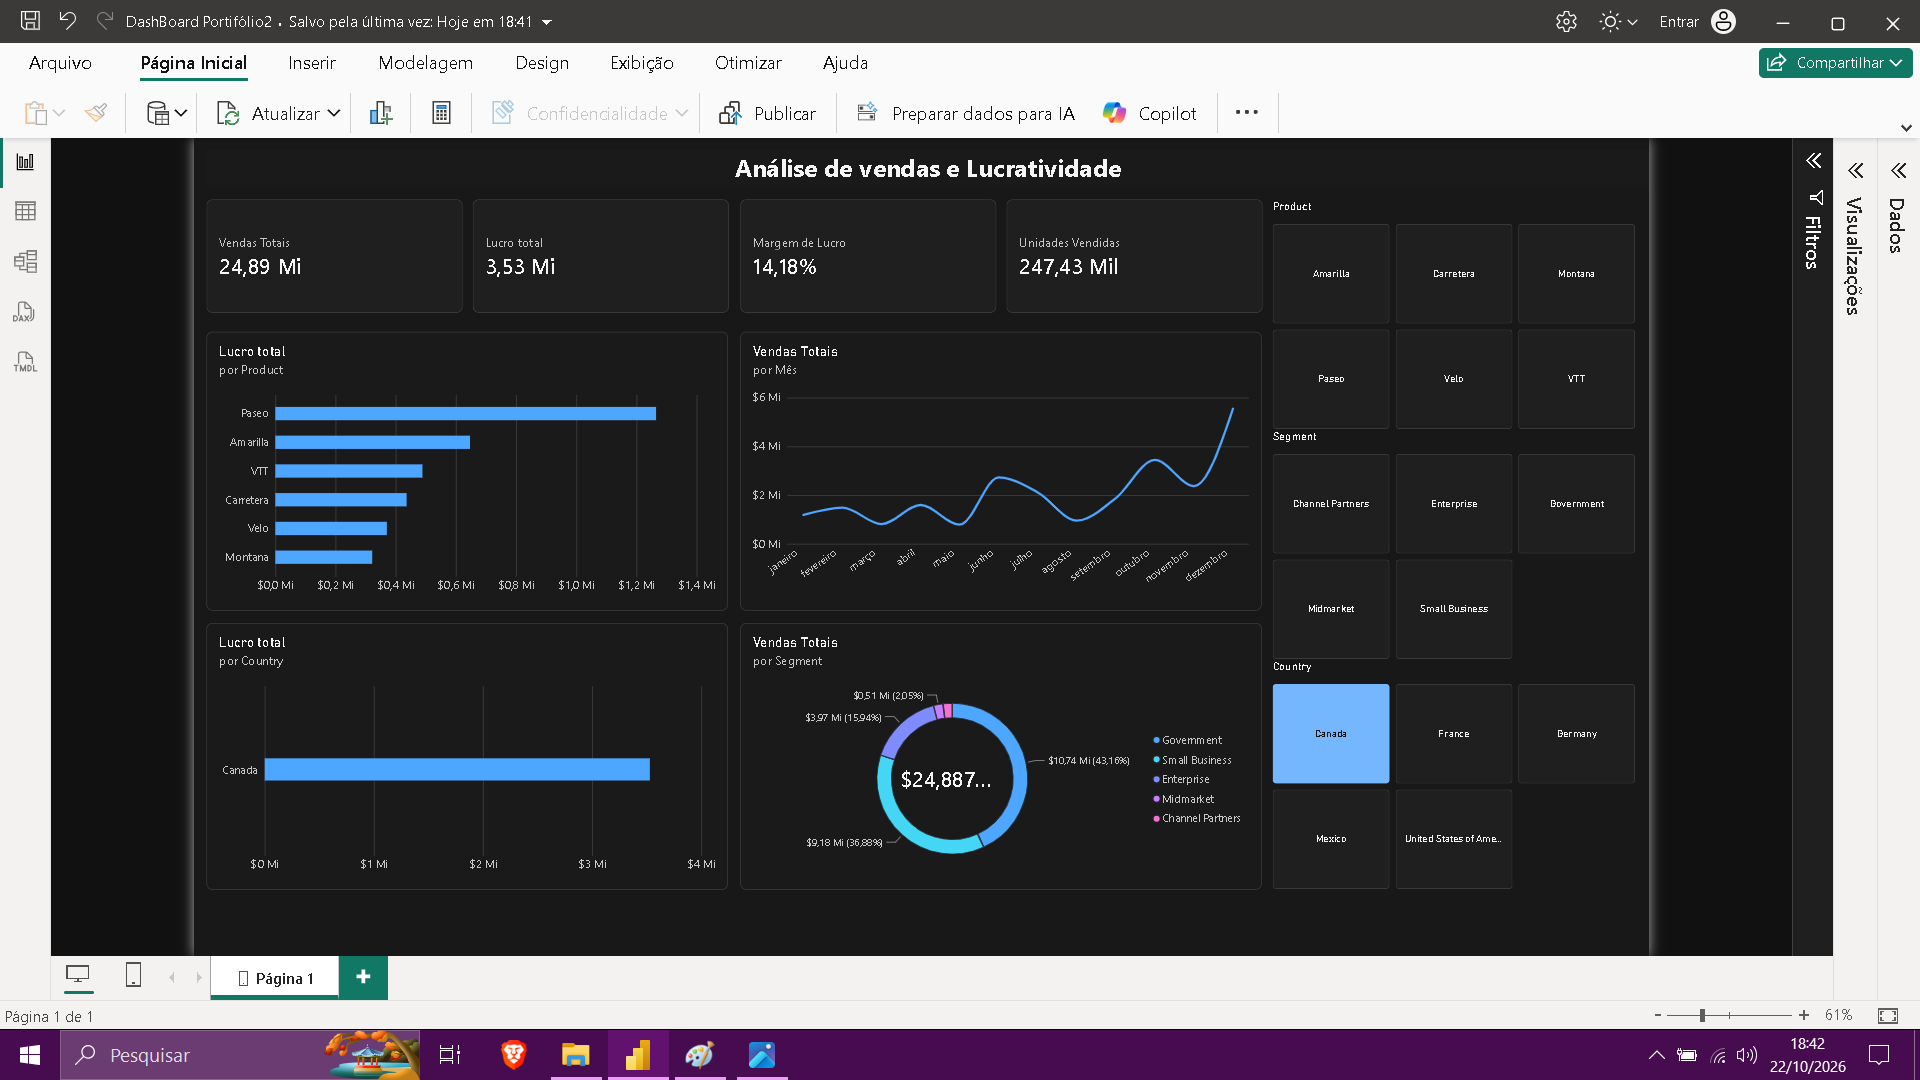

What the dashboard file says about the page in this screenshot:
{"tool":"powerbi","page":{"name":"Página 1","canvas":[1920,1080],"ordinal":0},"visuals":[{"type":"textbox","box":[16,16,1904,48],"z":0},{"type":"cardVisual","fields":{"Data":["financials.Vendas Totais"]},"box":[16,80,338.5,150.3],"z":1000},{"type":"cardVisual","fields":{"Data":["financials.Lucro total"]},"box":[368,80,338.5,150.3],"z":2000},{"type":"cardVisual","fields":{"Data":["financials.Margem de Lucro"]},"box":[720,80,338.5,150.3],"z":3000},{"type":"cardVisual","fields":{"Data":["financials.Unidades Vendidas"]},"box":[1072,80,338.5,150.3],"z":4000},{"type":"lineChart","fields":{"Category":["financials.Date.Variação.Hierarquia de datas.Ano","financials.Date.Variação.Hierarquia de datas.Trimestre","financials.Date.Variação.Hierarquia de datas.Mês","financials.Date.Variação.Hierarquia de datas.Dia"],"Y":["financials.Vendas Totais"]},"box":[720,256,688,368],"z":5000},{"type":"clusteredBarChart","fields":{"Category":["financials.Product"],"Y":["financials.Lucro total"]},"box":[16,256,688,368],"z":6000},{"type":"donutChart","fields":{"Category":["financials.Segment"],"Y":["financials.Vendas Totais"]},"box":[720,640,688,352],"z":7000},{"type":"clusteredBarChart","fields":{"Category":["financials.Country"],"Y":["financials.Lucro total"]},"box":[16,640,688,352],"z":8000},{"type":"advancedSlicerVisual","fields":{"Values":["financials.Country"]},"box":[1424,688,480,304],"z":9000},{"type":"advancedSlicerVisual","fields":{"Values":["financials.Segment"]},"box":[1424,384,480,304],"z":10000},{"type":"advancedSlicerVisual","fields":{"Values":["financials.Product"]},"box":[1424,80,480,304],"z":11000}]}

Visuals, with their boxes on the page's 1920x1080 design canvas (x1, y1, x2, y2). These are canvas units, not pixel positions in the 1920x1080 screenshot, which may show the page scaled, cropped or inside an application window:
textbox: 16,16,1920,64
cardVisual - financials.Vendas Totais: 16,80,354,230
cardVisual - financials.Lucro total: 368,80,706,230
cardVisual - financials.Margem de Lucro: 720,80,1058,230
cardVisual - financials.Unidades Vendidas: 1072,80,1410,230
lineChart - financials.Date.Variação.Hierarquia de datas.Ano x financials.Date.Variação.Hierarquia de datas.Trimestre: 720,256,1408,624
clusteredBarChart - financials.Product x financials.Lucro total: 16,256,704,624
donutChart - financials.Segment x financials.Vendas Totais: 720,640,1408,992
clusteredBarChart - financials.Country x financials.Lucro total: 16,640,704,992
advancedSlicerVisual - financials.Country: 1424,688,1904,992
advancedSlicerVisual - financials.Segment: 1424,384,1904,688
advancedSlicerVisual - financials.Product: 1424,80,1904,384
